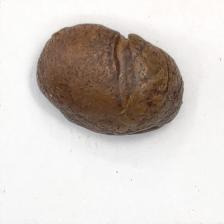NG: (108, 27, 144, 109), (161, 48, 183, 119)
